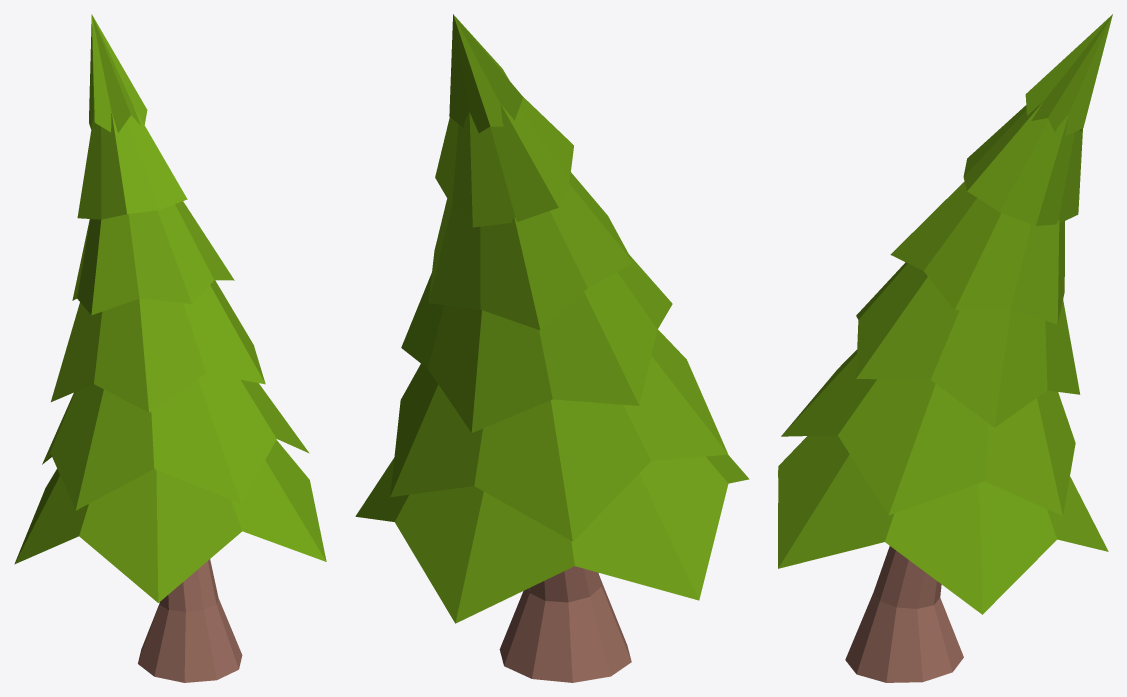
Rendered from pinetreebend.fbx.
3 views of the same model, side by side, from view 1: azimuth 30°, elevation 25°; view 2: azimuth 150°, elevation 25°; view 3: azimuth 270°, elevation 25° (orthographic). The views are drawn at different scales.
Parts seen in each view (by area): view 1: Cylinder, Cylinder.001; view 2: Cylinder, Cylinder.001; view 3: Cylinder, Cylinder.001.
Part boxes in pixels (x1,y1,x2,y2): Cylinder: [14, 14, 326, 602]; Cylinder.001: [138, 559, 242, 682]; Cylinder: [355, 14, 749, 623]; Cylinder.001: [499, 566, 631, 682]; Cylinder: [778, 14, 1112, 614]; Cylinder.001: [845, 546, 963, 682].
Size of the model in its own units: 421 by 856 by 404.
